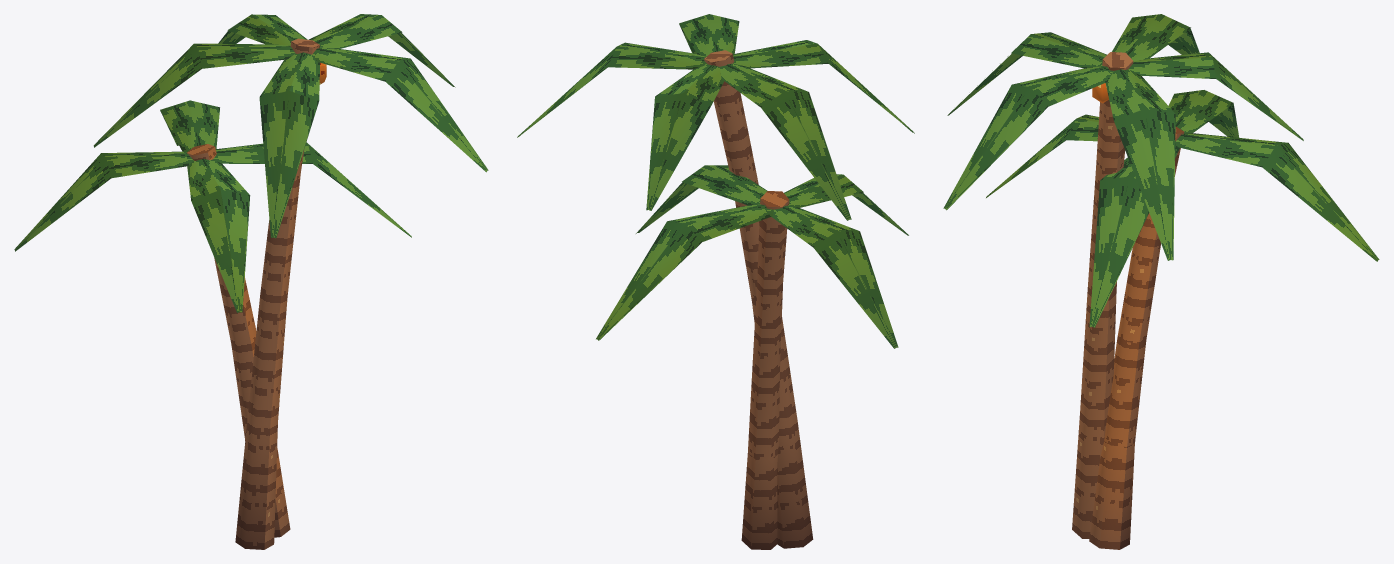
File: wild.palm__twin.glb
3 renders of one model, left to right at view 1: azimuth 30°, elevation 25°; view 2: azimuth 150°, elevation 25°; view 3: azimuth 270°, elevation 25°, orthographic. The views are drawn at different scales.
Parts seen in each view (by area): view 1: kit_shell_crown, kit_trunk; view 2: kit_shell_crown, kit_trunk; view 3: kit_shell_crown, kit_trunk.
Part boxes in pixels (bbox=[...]): kit_shell_crown: bbox=[14, 14, 488, 312]; kit_trunk: bbox=[187, 38, 319, 549]; kit_shell_crown: bbox=[517, 14, 914, 348]; kit_trunk: bbox=[704, 50, 813, 549]; kit_shell_crown: bbox=[943, 14, 1379, 327]; kit_trunk: bbox=[1072, 52, 1184, 549].
Bounding box in the file's own units: 5.86 × 6.56 × 5.11.
Materials: 3 (3 with a texture image).
